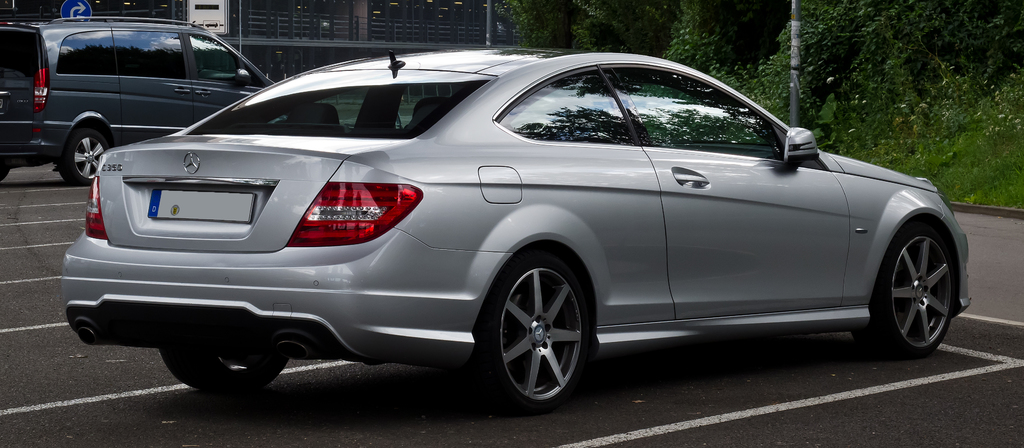Car: (58, 40, 972, 416), (0, 11, 280, 192)
